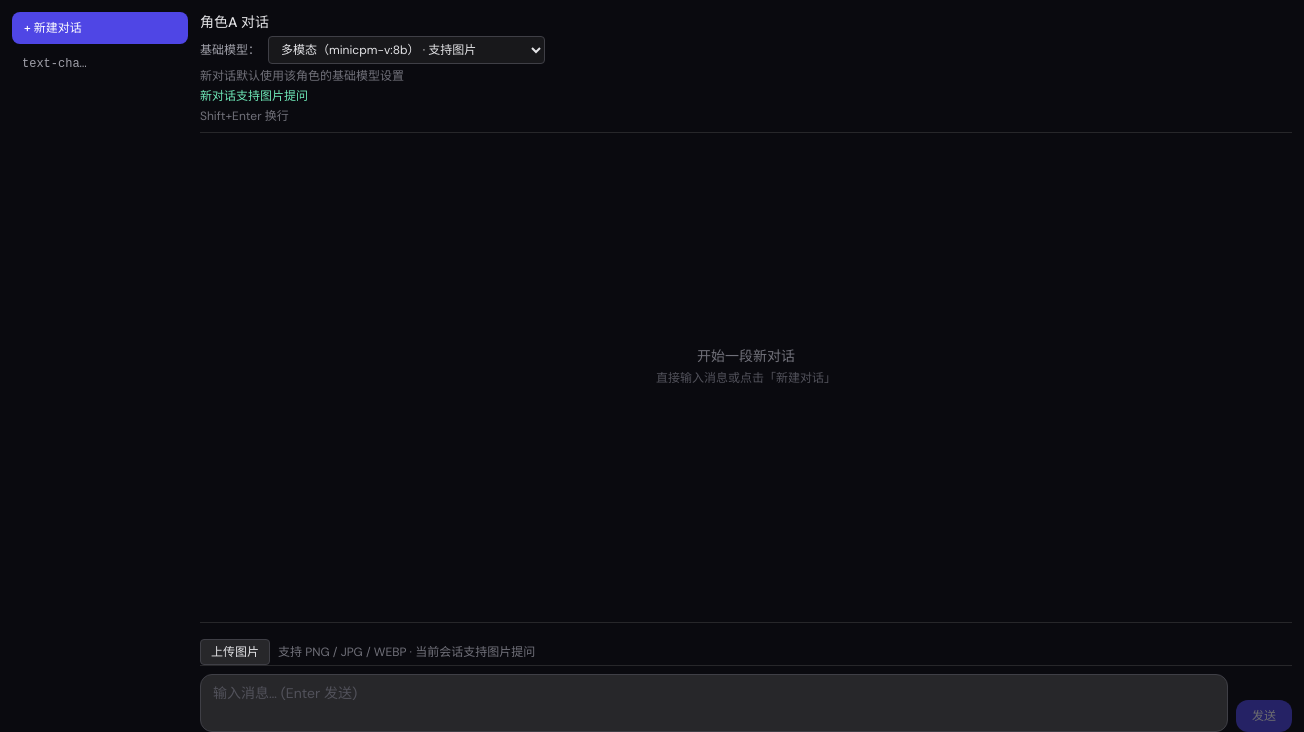
旧文本会话在选择多模态后仍不显示上传入口，并提示仅影响新对话
(page scrolled)
What coordinates should you click on to do the following:
click the text "text-cha…"
I would click on:
 (54, 64)
Its box is [22,57,87,71].
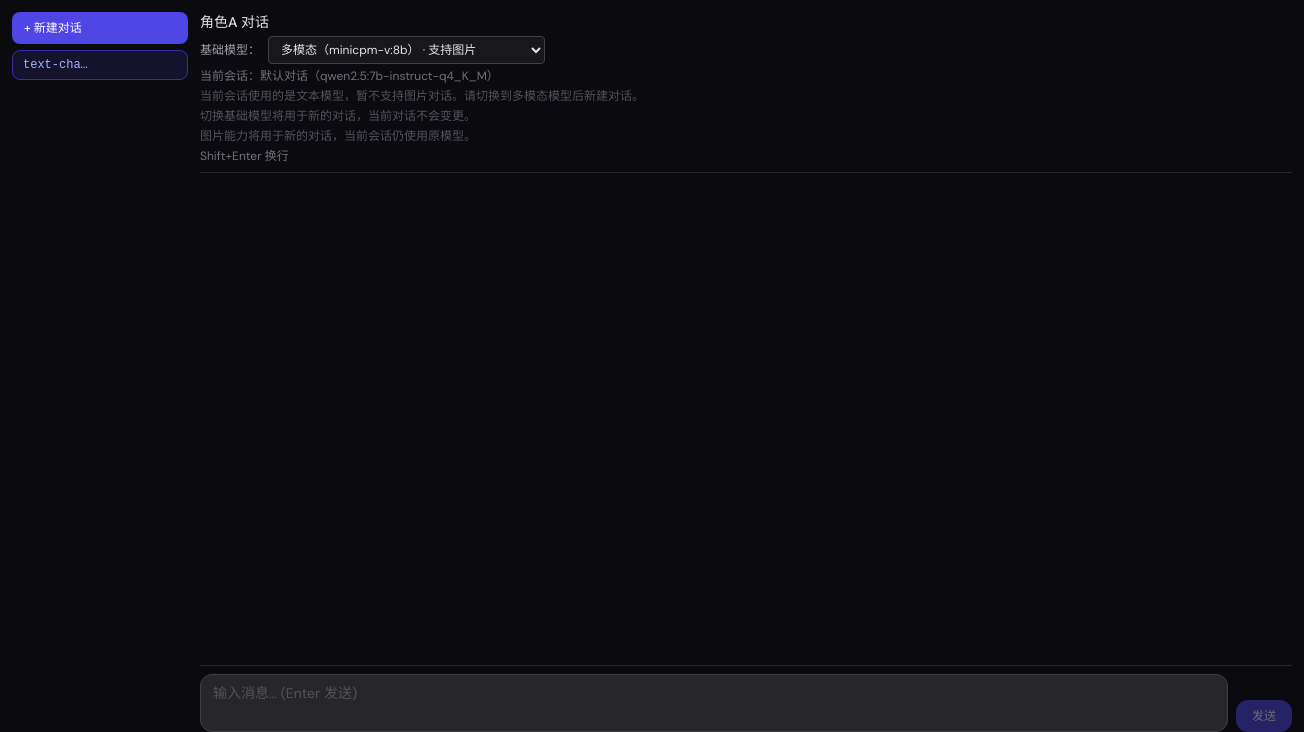
Check: the button "上传图片" is gone
Check: the text "图片能力将用于新的对话，当前会话仍使用原模型。" is shown, box [200,128,476,144]
